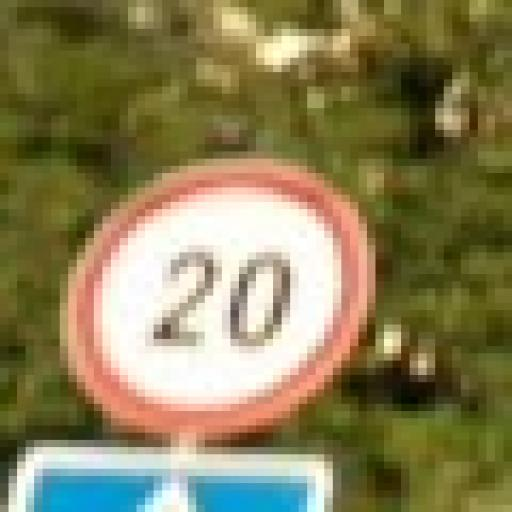traffic_sign: (61, 160, 376, 441)
